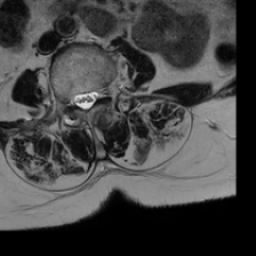CCS_stenosis: (81, 85, 89, 117)
LFS_normal: (97, 78, 106, 105)
LLS_normal: (89, 83, 97, 112)
RFS_normal: (64, 85, 73, 114)
RLS_normal: (73, 86, 81, 113)
